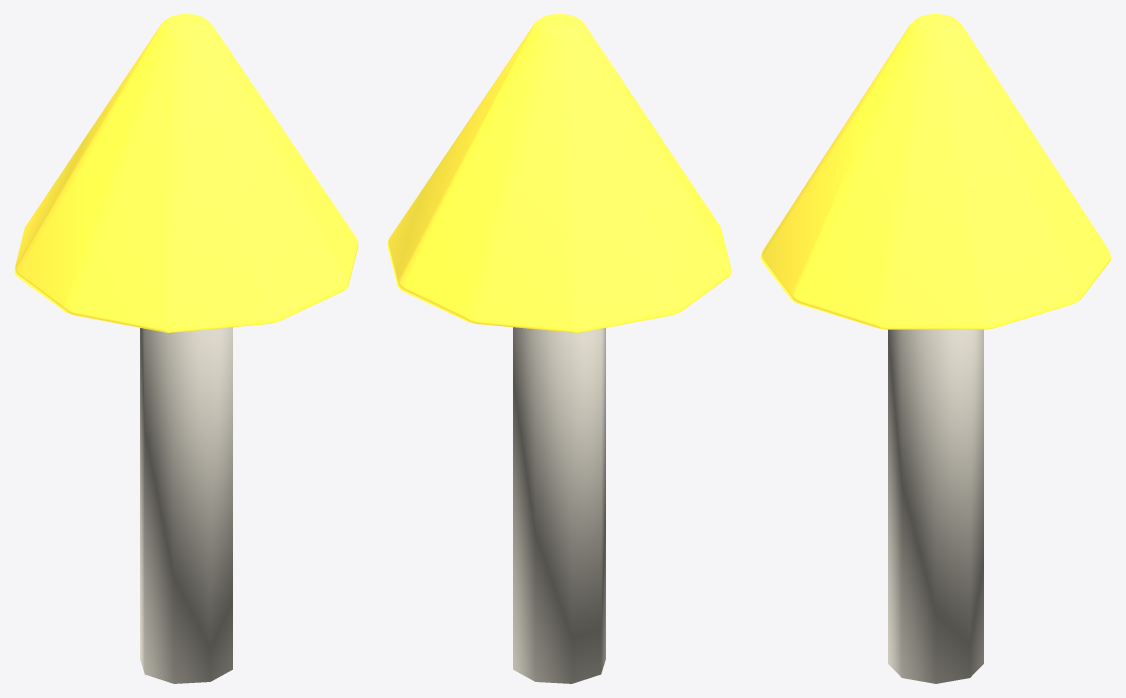
The model's file is mushroom-tall.glb.
3 views of the same model, side by side, from view 1: azimuth 30°, elevation 25°; view 2: azimuth 150°, elevation 25°; view 3: azimuth 270°, elevation 25° (orthographic).
Parts seen in each view (by area): view 1: Mush2_Cap, Mush2_Stem; view 2: Mush2_Cap, Mush2_Stem; view 3: Mush2_Cap, Mush2_Stem.
Boxes of the visible parts, bbox=[...] form: Mush2_Cap: bbox=[14, 14, 358, 332]; Mush2_Stem: bbox=[140, 327, 232, 683]; Mush2_Cap: bbox=[387, 14, 731, 332]; Mush2_Stem: bbox=[513, 327, 605, 683]; Mush2_Cap: bbox=[760, 14, 1111, 329]; Mush2_Stem: bbox=[888, 329, 983, 683].
Bounding box in the file's own units: 0.279 × 0.59 × 0.2921.
